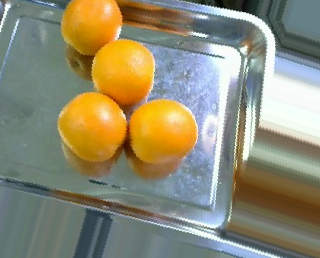Orange: (56, 90, 127, 164), (128, 98, 199, 165), (89, 37, 154, 105), (61, 1, 123, 55)
